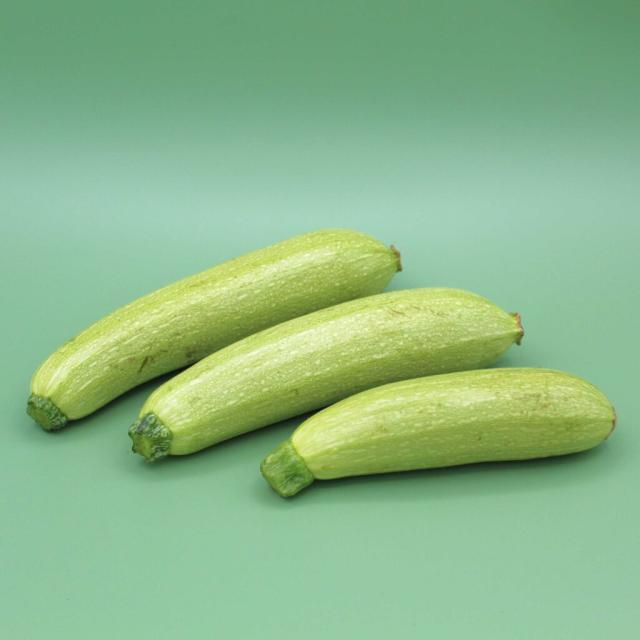Zucchini: (257, 367, 621, 482)
